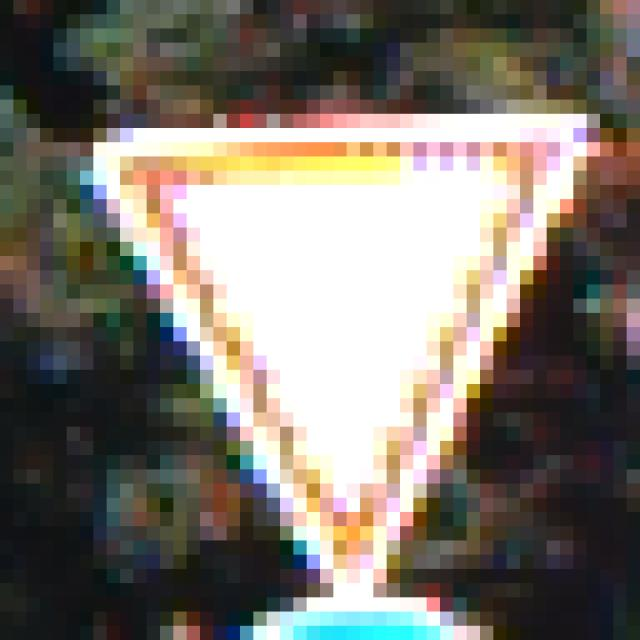Give Way: (68, 86, 574, 570)
